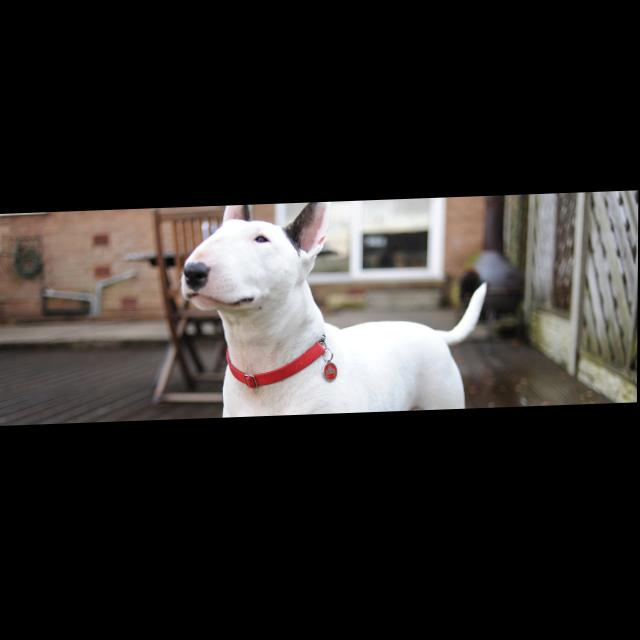bullterrier: (181, 201, 491, 422)
